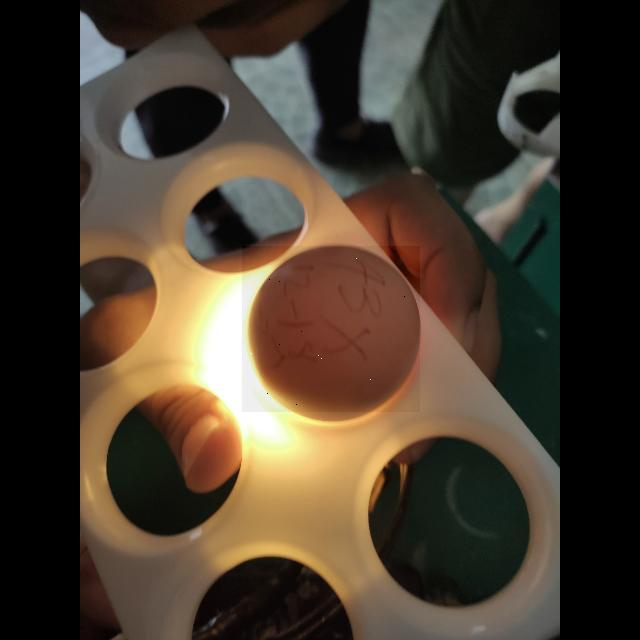Fertile: (242, 246, 420, 412)
